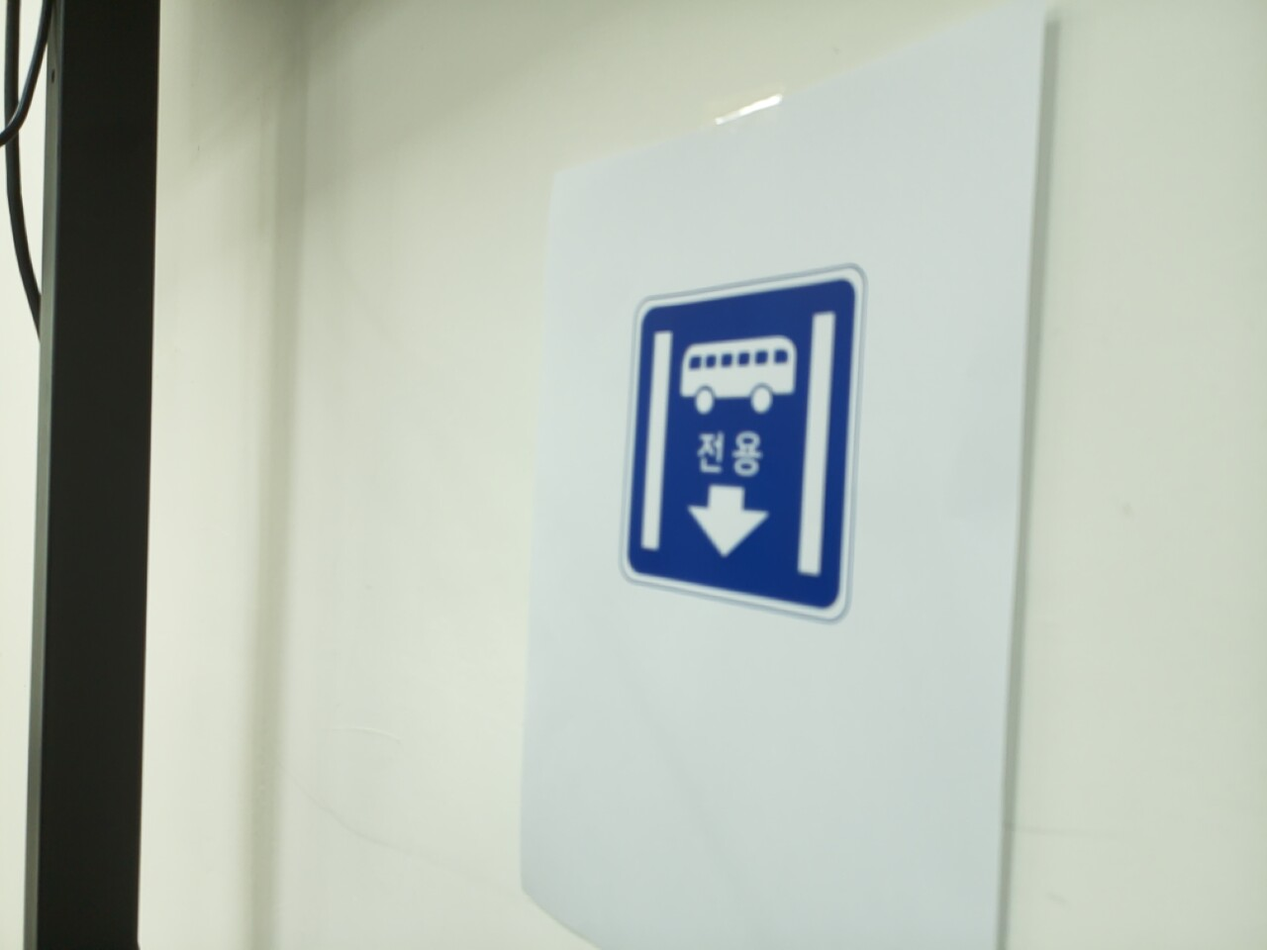bus_only_lane: (620, 269, 863, 618)
